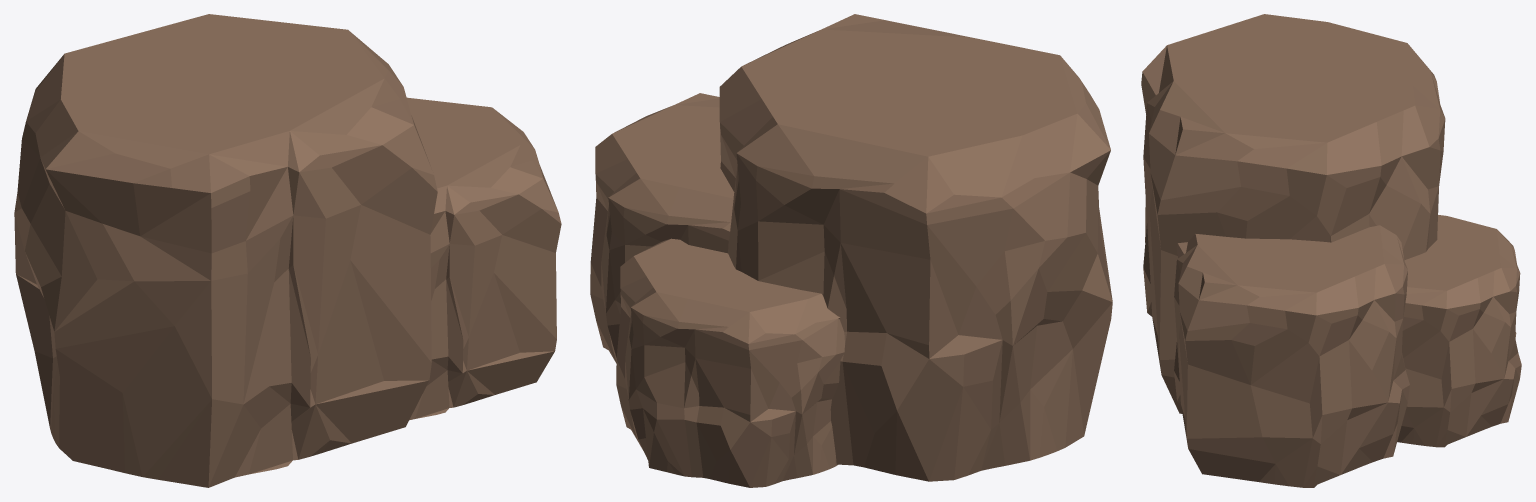
File: dark_big_rock.fbx
3 views of the same model, side by side, from view 1: azimuth 30°, elevation 25°; view 2: azimuth 150°, elevation 25°; view 3: azimuth 270°, elevation 25° (orthographic). The views are drawn at different scales.
Parts seen in each view (by area): view 1: dark_big_rock; view 2: dark_big_rock; view 3: dark_big_rock.
Boxes of the visible parts, x1,y1,x2,y2 form: dark_big_rock: (14,14,561,487); dark_big_rock: (590,14,1112,487); dark_big_rock: (1141,14,1521,487).
Size of the model in its own units: 30.25 by 19.15 by 23.25.
